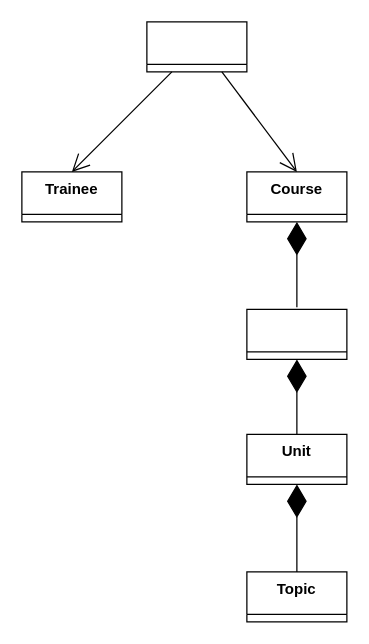
The diagram is 369 pixels wide and 644 high, and some of its shapes have lost their labels. Here are the shapes that lost their labels. From the top down, the centre of each, then its label:
the point at 196,46: Trainer
the point at 296,333: Module
